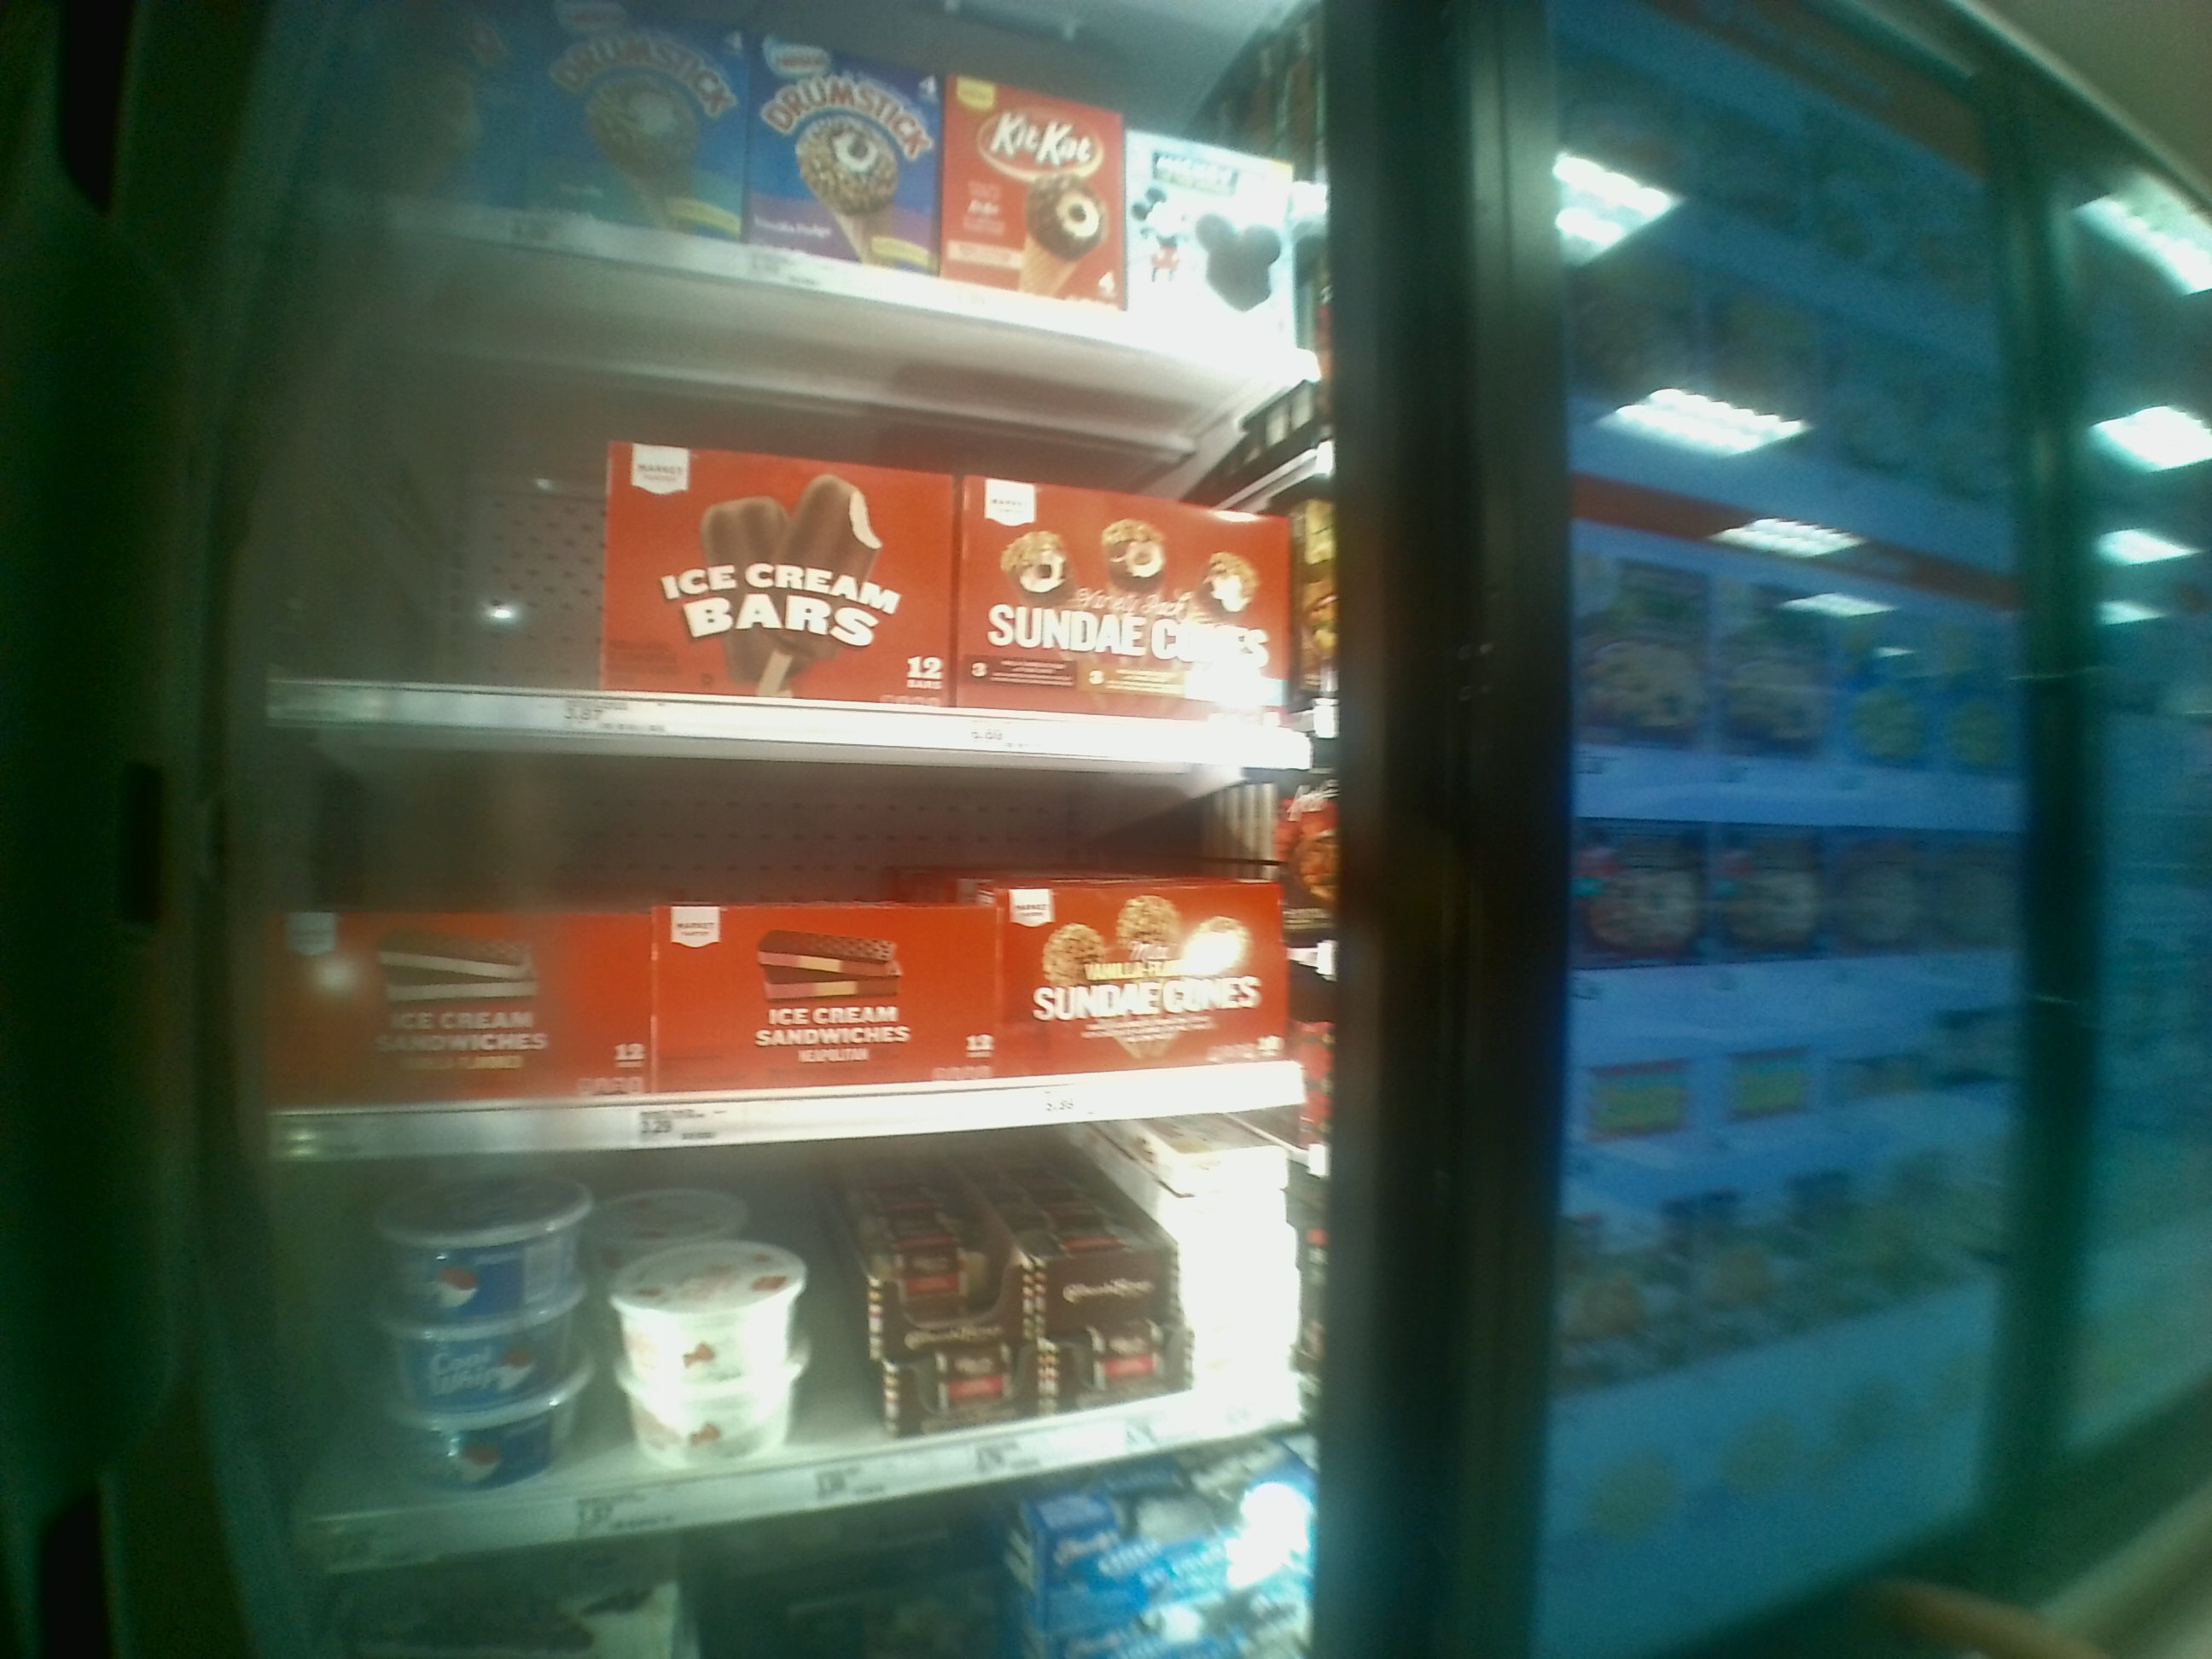shelf: (258, 216, 1313, 753), (256, 1103, 1320, 1560), (254, 718, 1315, 1150)
